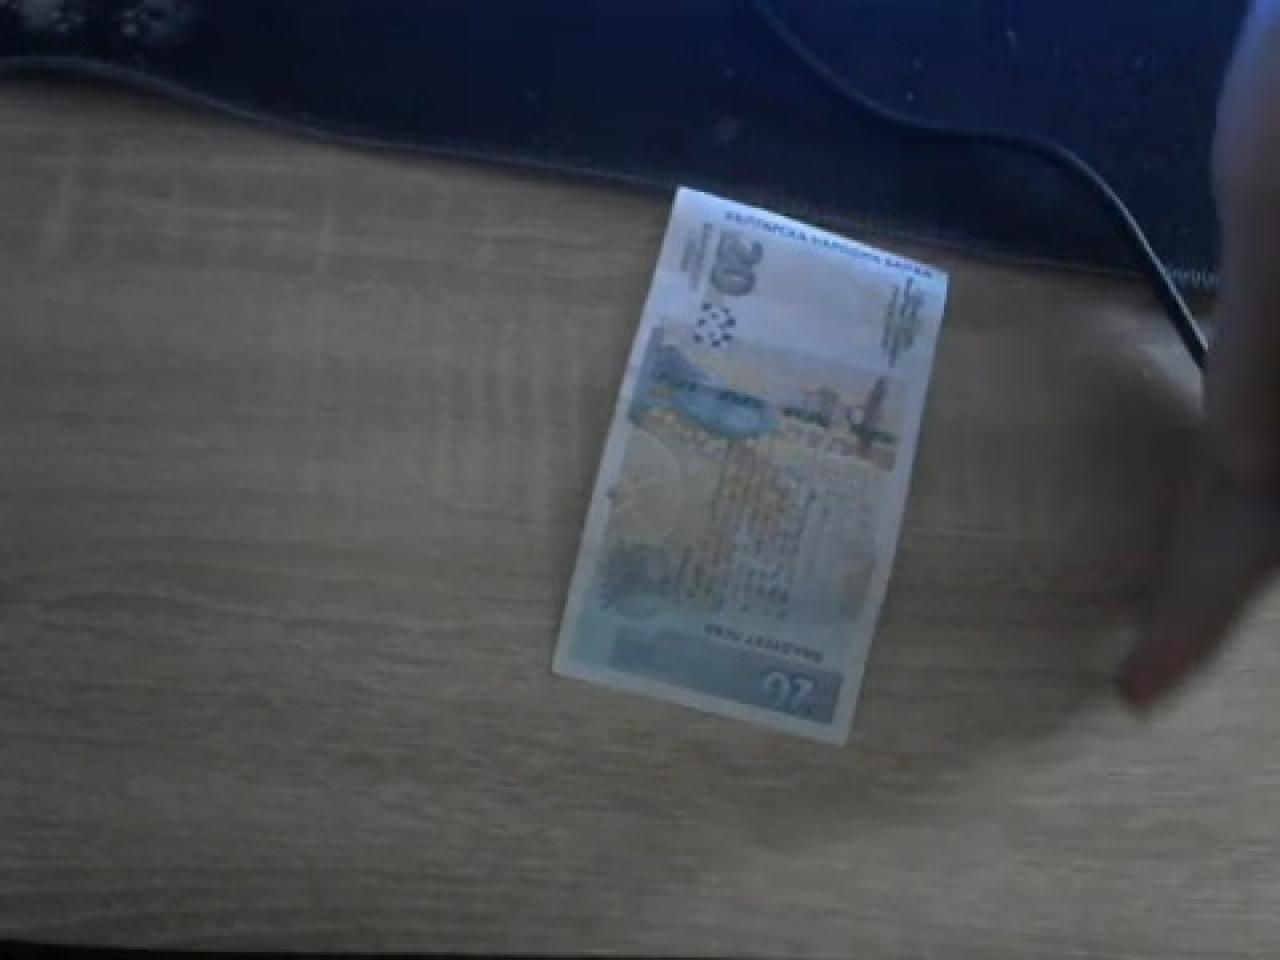20leva: (549, 190, 952, 746)
